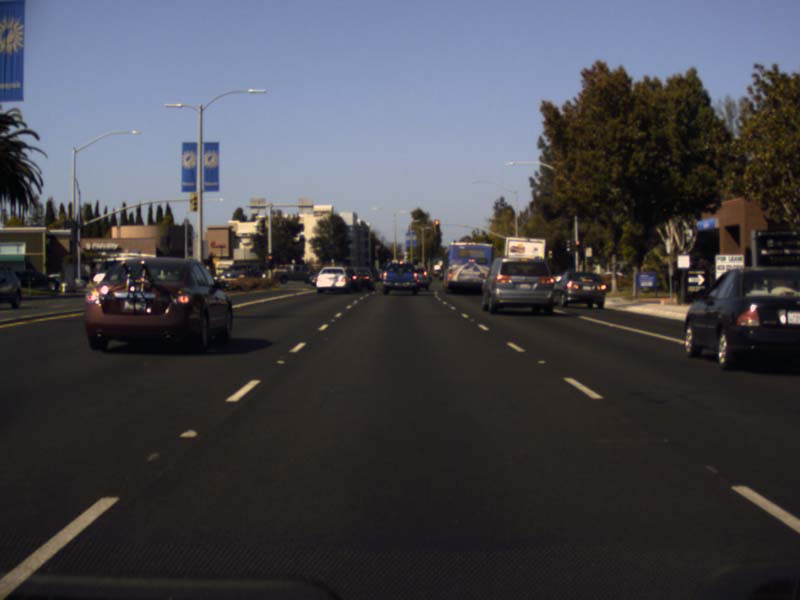Red: (434, 219, 440, 232), (574, 239, 580, 250), (267, 254, 272, 267)
